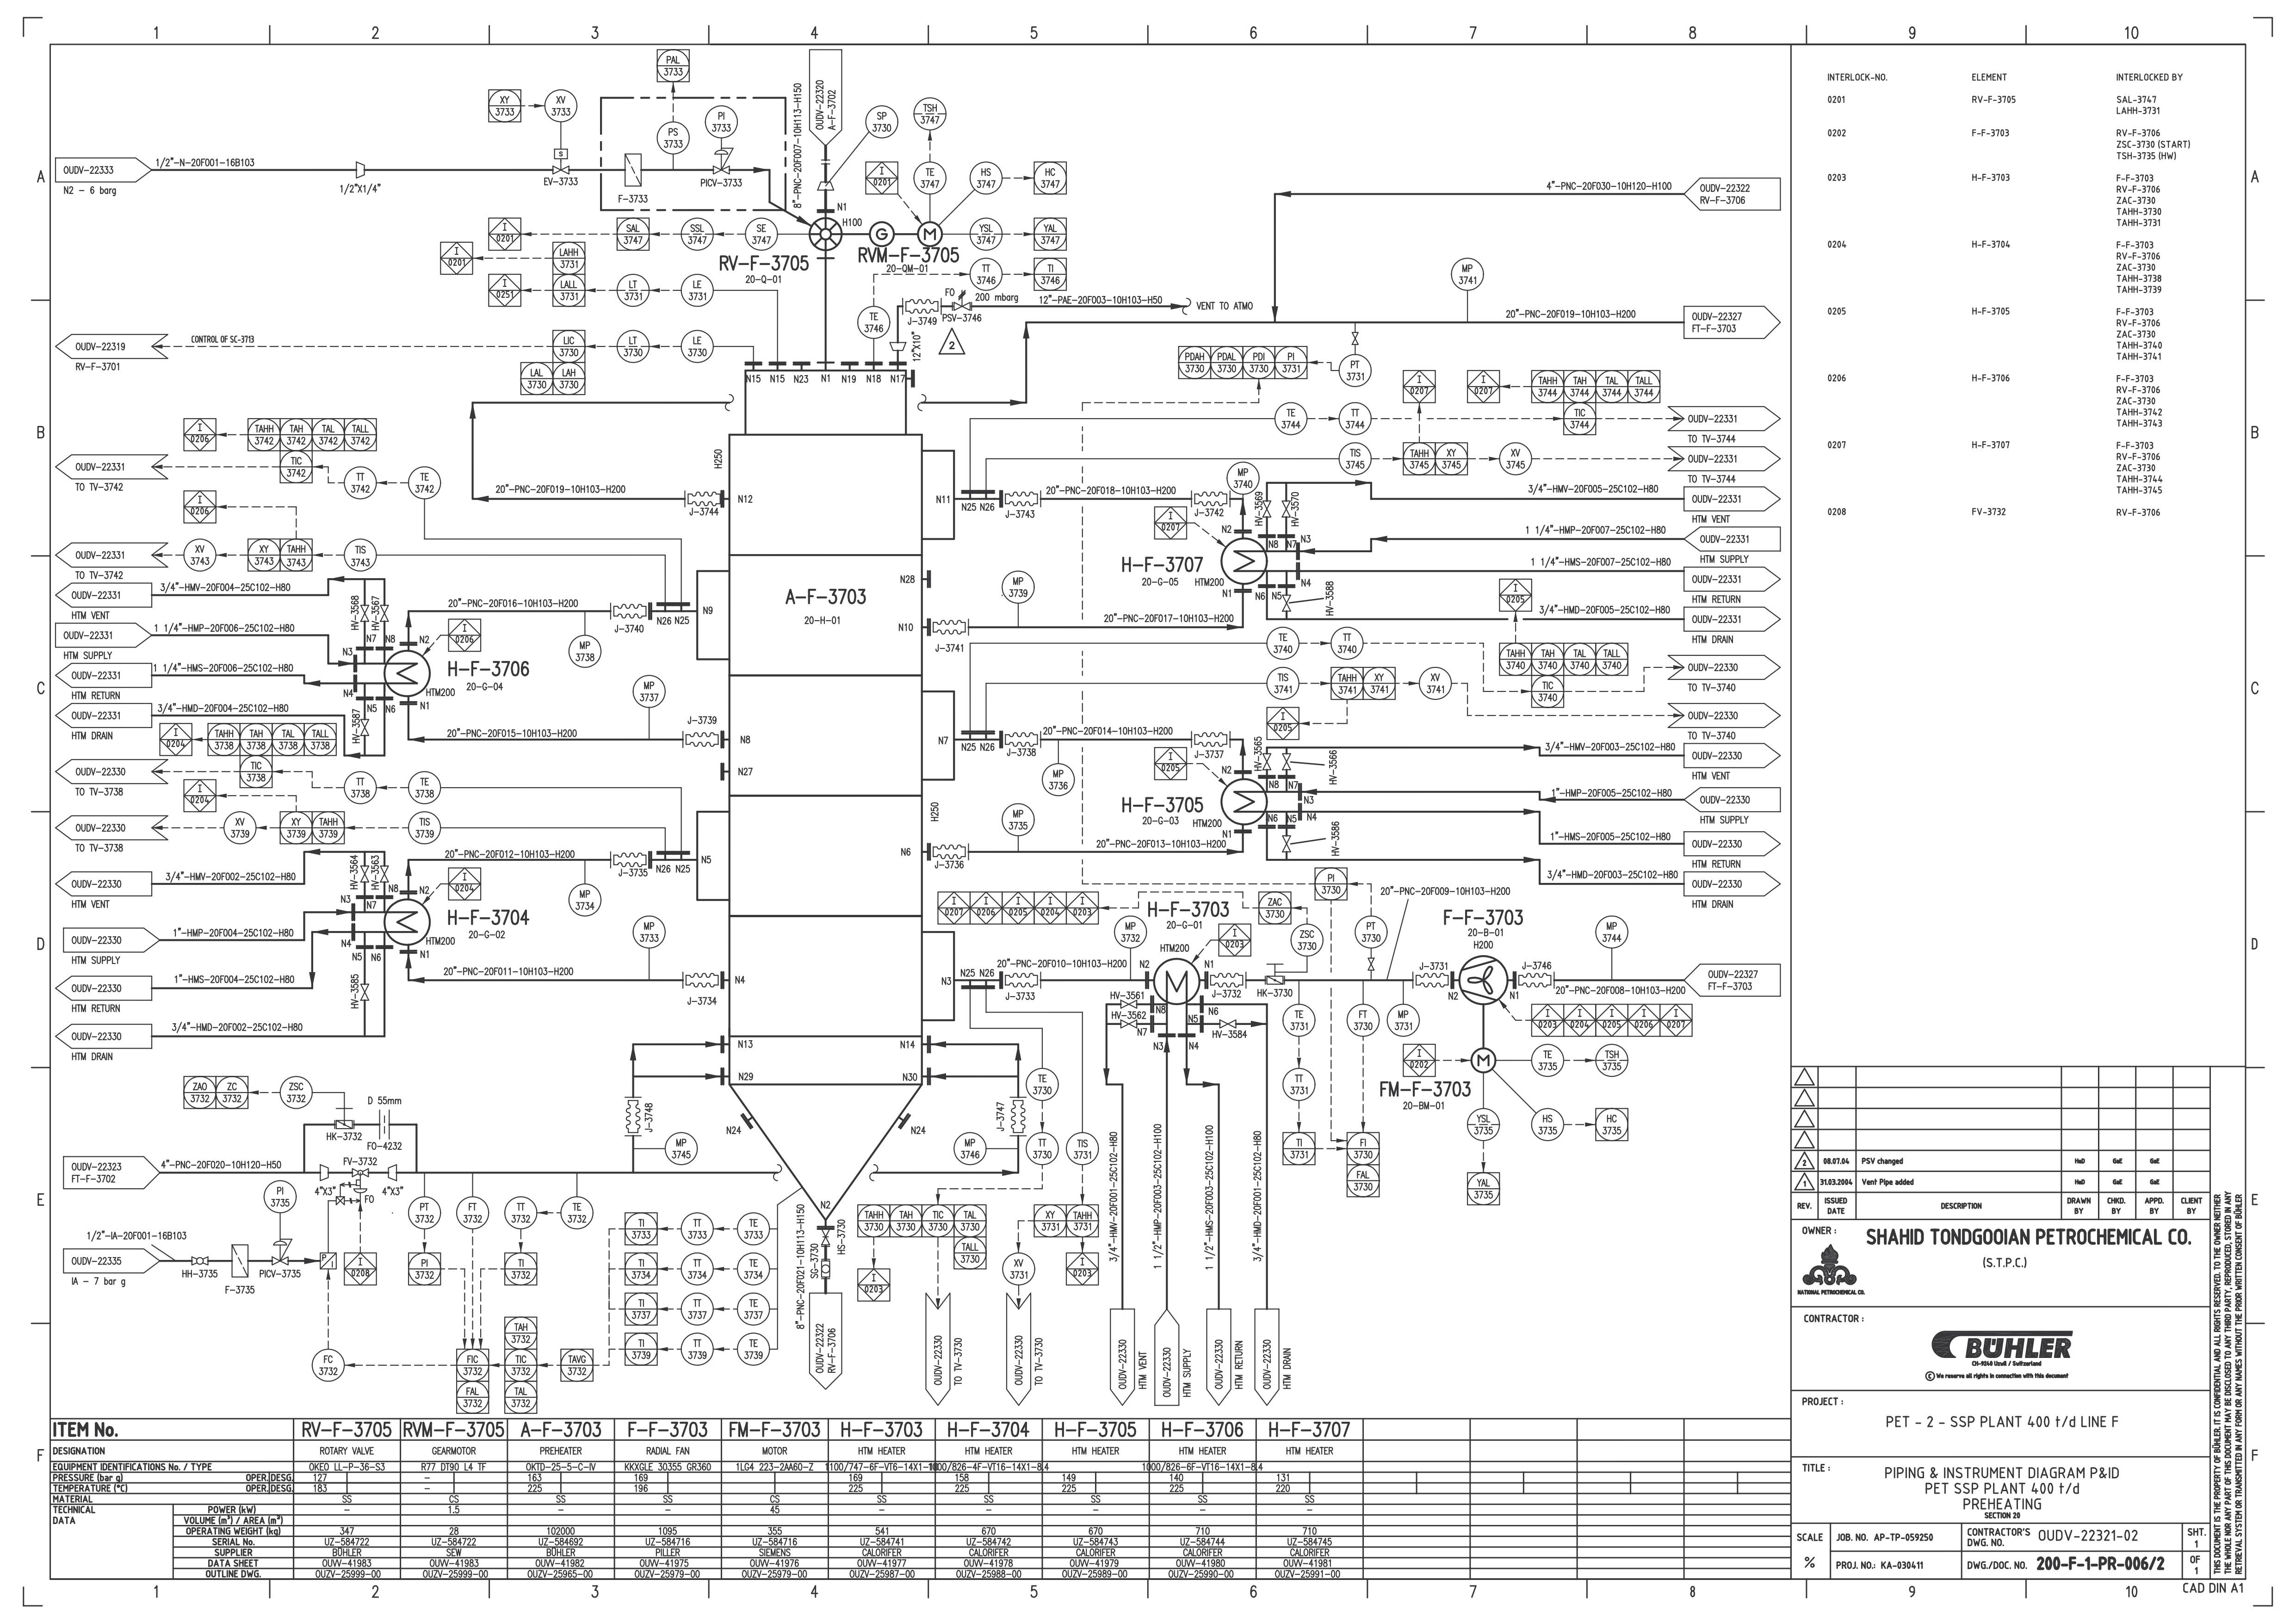A3: (718, 362, 929, 1221)
BV: (1263, 963, 1286, 987), (334, 1107, 355, 1131)
BV2: (190, 1254, 209, 1266)
CBV: (336, 1166, 371, 1210)
CS: (815, 1228, 836, 1247)
EJ: (610, 599, 650, 622), (1001, 487, 1042, 509), (929, 615, 970, 638), (1001, 727, 1042, 750), (1516, 968, 1556, 991), (1207, 970, 1249, 991), (1001, 970, 1043, 991), (1189, 729, 1231, 750), (901, 295, 942, 316), (682, 729, 722, 750), (682, 970, 722, 991), (929, 841, 970, 862), (1008, 1093, 1028, 1136), (624, 1094, 643, 1138), (683, 488, 722, 509), (608, 850, 650, 869), (1411, 970, 1451, 989), (1188, 490, 1231, 508)
EPA: (316, 1251, 337, 1270)
F: (1458, 952, 1509, 1006)
F2: (230, 1242, 249, 1279), (624, 153, 643, 188)
GV: (358, 718, 371, 739), (358, 602, 371, 624), (1117, 1017, 1138, 1029), (358, 982, 371, 1001), (1217, 1019, 1237, 1031), (1281, 834, 1293, 854), (1261, 499, 1272, 520), (1281, 592, 1291, 613), (379, 602, 390, 624), (1281, 499, 1291, 518), (360, 864, 371, 884), (1119, 998, 1138, 1008), (1261, 752, 1272, 771), (1282, 752, 1293, 771), (379, 864, 388, 884), (1351, 330, 1360, 346), (1367, 956, 1375, 971)
HE: (383, 896, 430, 947), (1221, 536, 1268, 585), (383, 648, 430, 697), (1219, 778, 1267, 826)
M: (1469, 1043, 1497, 1075)
O: (378, 1108, 390, 1140)
PCV: (711, 146, 736, 176), (271, 1237, 293, 1266)
RPV: (950, 286, 973, 311)
RV1: (806, 214, 843, 251)
RVM: (868, 220, 943, 246)
SG: (820, 1258, 833, 1280)
SP: (353, 158, 367, 179), (815, 179, 836, 191), (887, 341, 906, 353), (318, 1161, 330, 1180), (386, 1163, 399, 1182)
SV: (550, 146, 571, 177)
